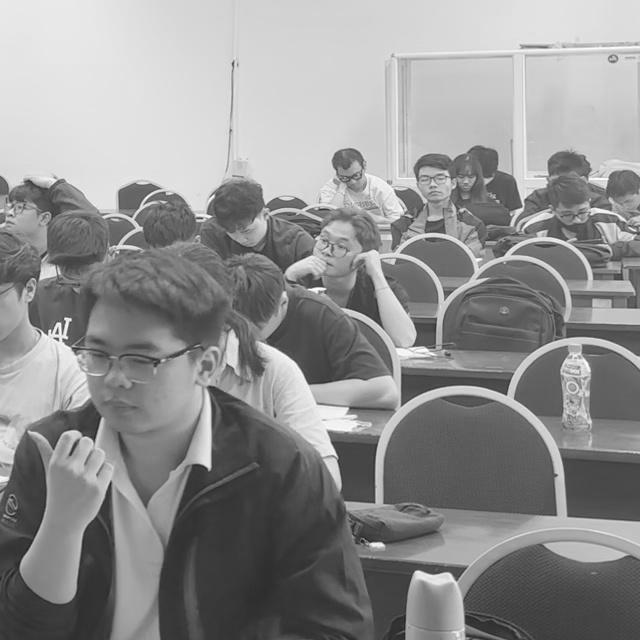Looking away: (85, 309, 181, 430), (221, 218, 275, 252), (552, 200, 595, 234), (335, 163, 371, 192), (612, 187, 640, 216)
Looking forward: (309, 219, 359, 285), (4, 202, 44, 244), (414, 169, 453, 204)
